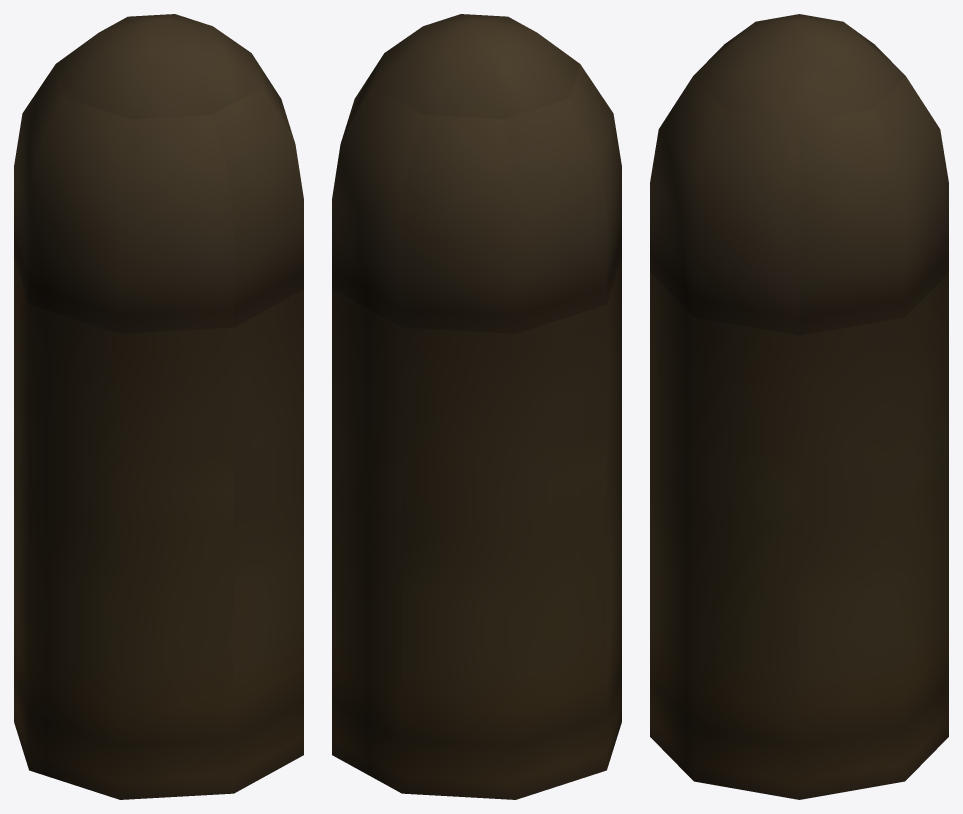
File: ammo_pistol_loose_1pc_mp_1.obj
The picture shows the model from 3 angles, left to right: view 1: azimuth 30°, elevation 25°; view 2: azimuth 150°, elevation 25°; view 3: azimuth 270°, elevation 25°; orthographic projection.
Parts seen in each view (by area): view 1: ammo_pistol_loose_1pc_mp_1; view 2: ammo_pistol_loose_1pc_mp_1; view 3: ammo_pistol_loose_1pc_mp_1.
Boxes of the visible parts, bbox=[...] form: ammo_pistol_loose_1pc_mp_1: bbox=[14, 14, 303, 799]; ammo_pistol_loose_1pc_mp_1: bbox=[332, 14, 621, 799]; ammo_pistol_loose_1pc_mp_1: bbox=[650, 14, 948, 799].
Size of the model in its own units: 0.448 by 1.18 by 0.448.
1 material, 1 textured.
